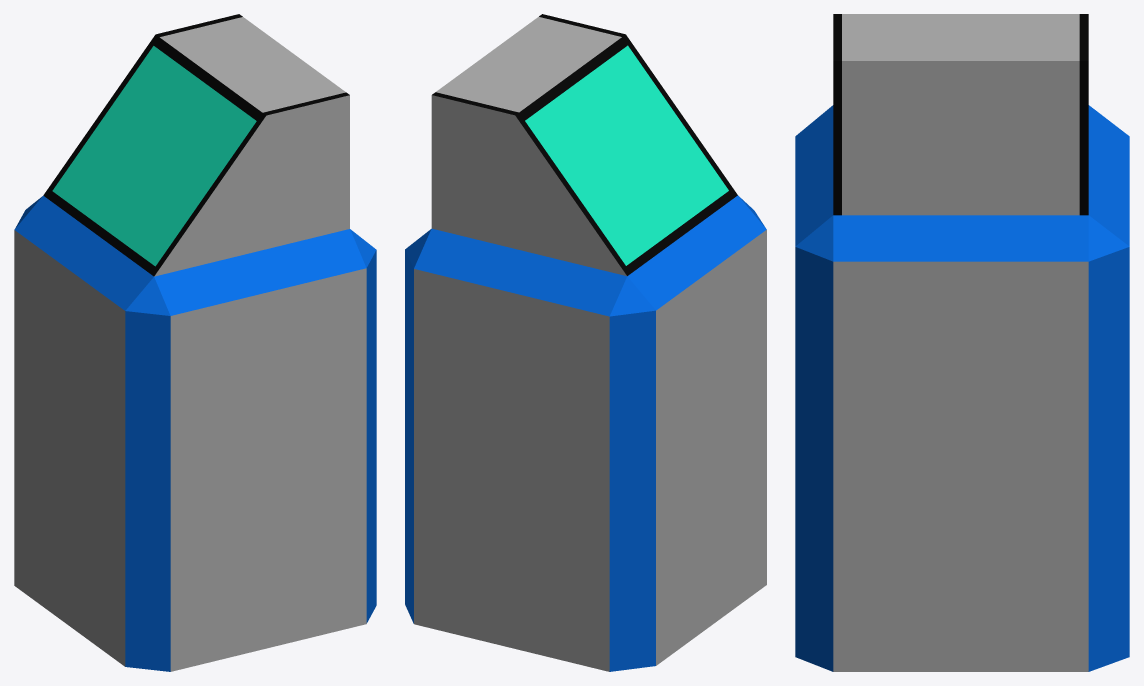
File: szinezoPanel.fbx
3 renders of one model, left to right at view 1: azimuth 30°, elevation 25°; view 2: azimuth 150°, elevation 25°; view 3: azimuth 270°, elevation 25°, orthographic. The views are drawn at different scales.
Parts seen in each view (by area): view 1: Cube, Cube.001; view 2: Cube, Cube.001; view 3: Cube, Cube.001.
Part boxes in pixels (x1,y1,x2,y2): Cube: [14, 14, 366, 671]; Cube.001: [14, 195, 376, 671]; Cube: [414, 14, 766, 671]; Cube.001: [405, 195, 766, 671]; Cube: [833, 14, 1088, 671]; Cube.001: [795, 105, 1129, 671].
Size of the model in its own units: 200 by 393 by 200.
